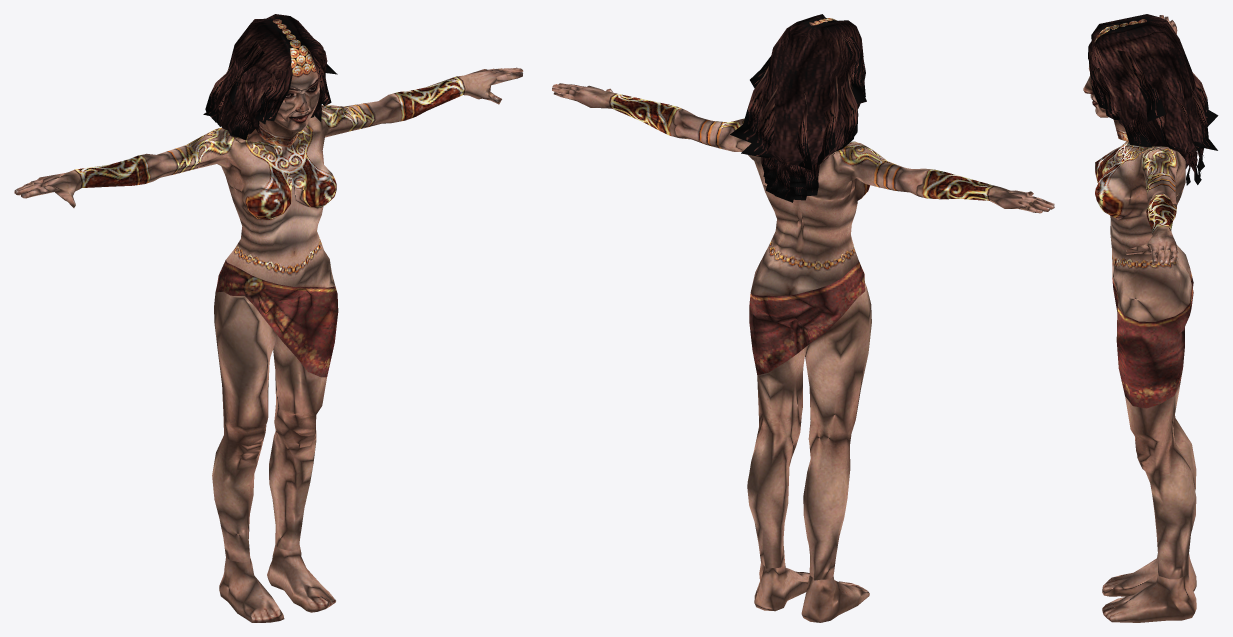
The model's file is ashelin-highres-lod0.glb.
3 views of the same model, side by side, from view 1: azimuth 30°, elevation 25°; view 2: azimuth 150°, elevation 25°; view 3: azimuth 270°, elevation 25° (orthographic).
Visible parts, largest first — view 1: p00g00o05g._0p; view 2: p00g00o05g._0p; view 3: p00g00o05g._0p.
Boxes of the visible parts, box(x1,y1,x2,y2) form: p00g00o05g._0p: box(14, 14, 523, 622); p00g00o05g._0p: box(552, 14, 1054, 622); p00g00o05g._0p: box(1083, 14, 1218, 622).
Bounding box in the file's own units: 2.78 × 3.05 × 0.6413.
Materials: 2 (2 with a texture image).
